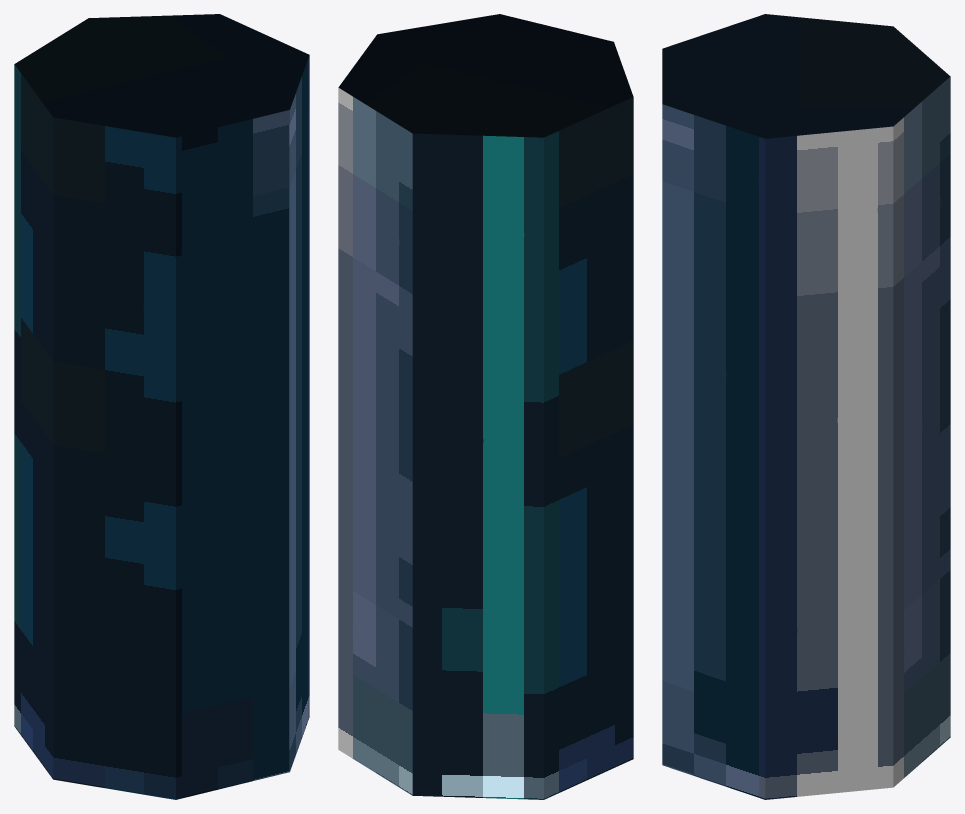
Rendered from Generic_Shell.glb.
The picture shows the model from 3 angles, left to right: view 1: azimuth 30°, elevation 25°; view 2: azimuth 150°, elevation 25°; view 3: azimuth 270°, elevation 25°; orthographic projection.
Parts seen in each view (by area): view 1: Shell; view 2: Shell; view 3: Shell.
Part boxes in pixels (x1=…): Shell: x1=14, y1=14, x2=309, y2=799; Shell: x1=338, y1=14, x2=633, y2=799; Shell: x1=662, y1=14, x2=950, y2=799.
Bounding box in the file's own units: 0.0263 × 0.0649 × 0.0256.
Materials: 1 (1 with a texture image).
